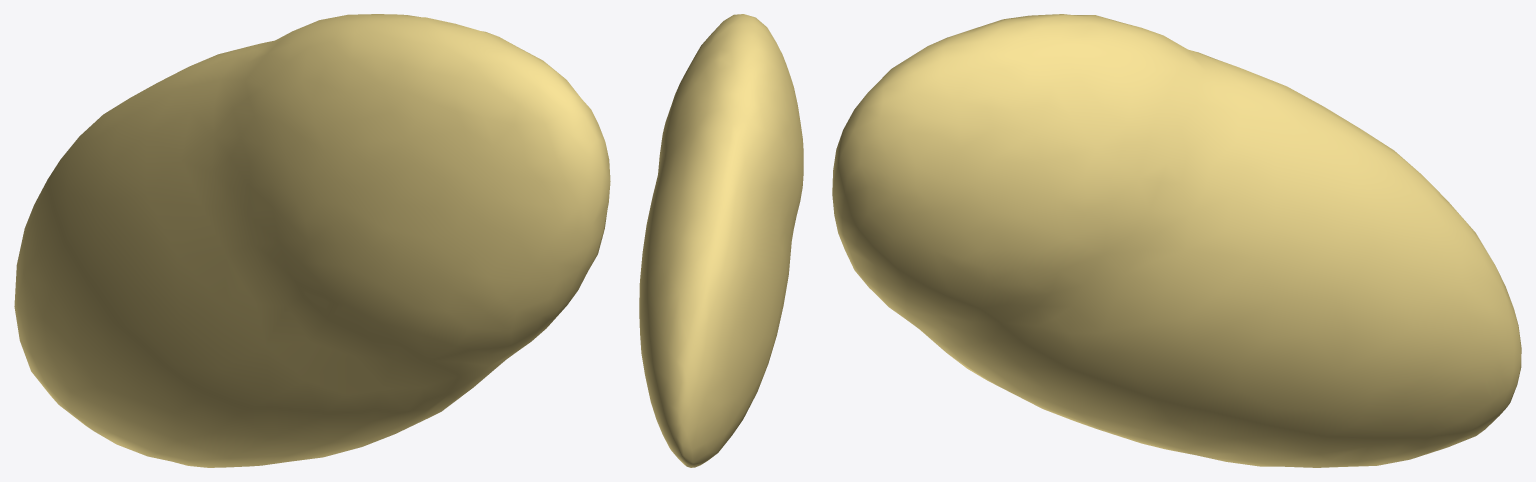
The model's file is fma73473_mm3564m.glb.
3 renders of one model, left to right at view 1: azimuth 30°, elevation 25°; view 2: azimuth 150°, elevation 25°; view 3: azimuth 270°, elevation 25°, orthographic. The views are drawn at different scales.
Visible parts, largest first — view 1: FMA73473_MM3564M; view 2: FMA73473_MM3564M; view 3: FMA73473_MM3564M.
Boxes of the visible parts, x1=… form: FMA73473_MM3564M: x1=14, y1=14, x2=610, y2=467; FMA73473_MM3564M: x1=639, y1=14, x2=803, y2=467; FMA73473_MM3564M: x1=832, y1=14, x2=1521, y2=467.
Bounding box in the file's own units: 0.00135 × 0.0023 × 0.00286.
